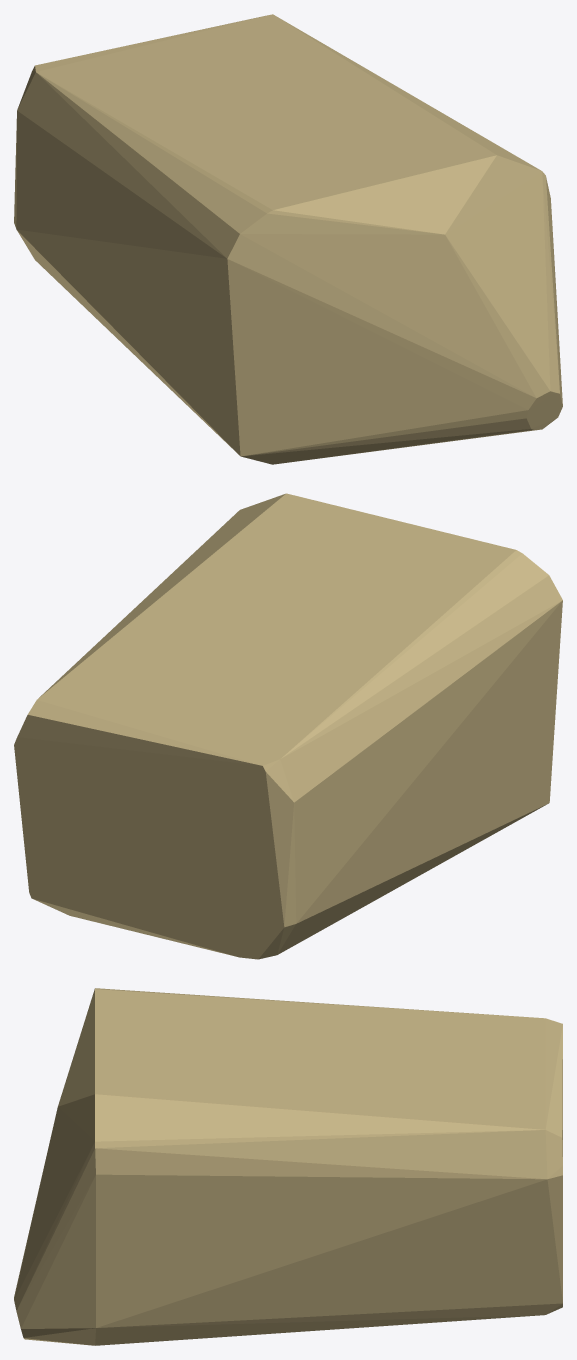
The model's file is trash_a01.glb.
The picture shows the model from 3 angles, top to bottom: view 1: azimuth 30°, elevation 25°; view 2: azimuth 150°, elevation 25°; view 3: azimuth 270°, elevation 25°; orthographic projection. The views are drawn at different scales.
Visible parts, largest first — view 1: geometry_0; view 2: geometry_0; view 3: geometry_0.
Boxes of the visible parts, <box> form: geometry_0: <box>14,14,562,464</box>; geometry_0: <box>14,493,562,959</box>; geometry_0: <box>14,988,562,1345</box>.
Size of the model in its own units: 0.3152 by 0.2374 by 0.4797.
